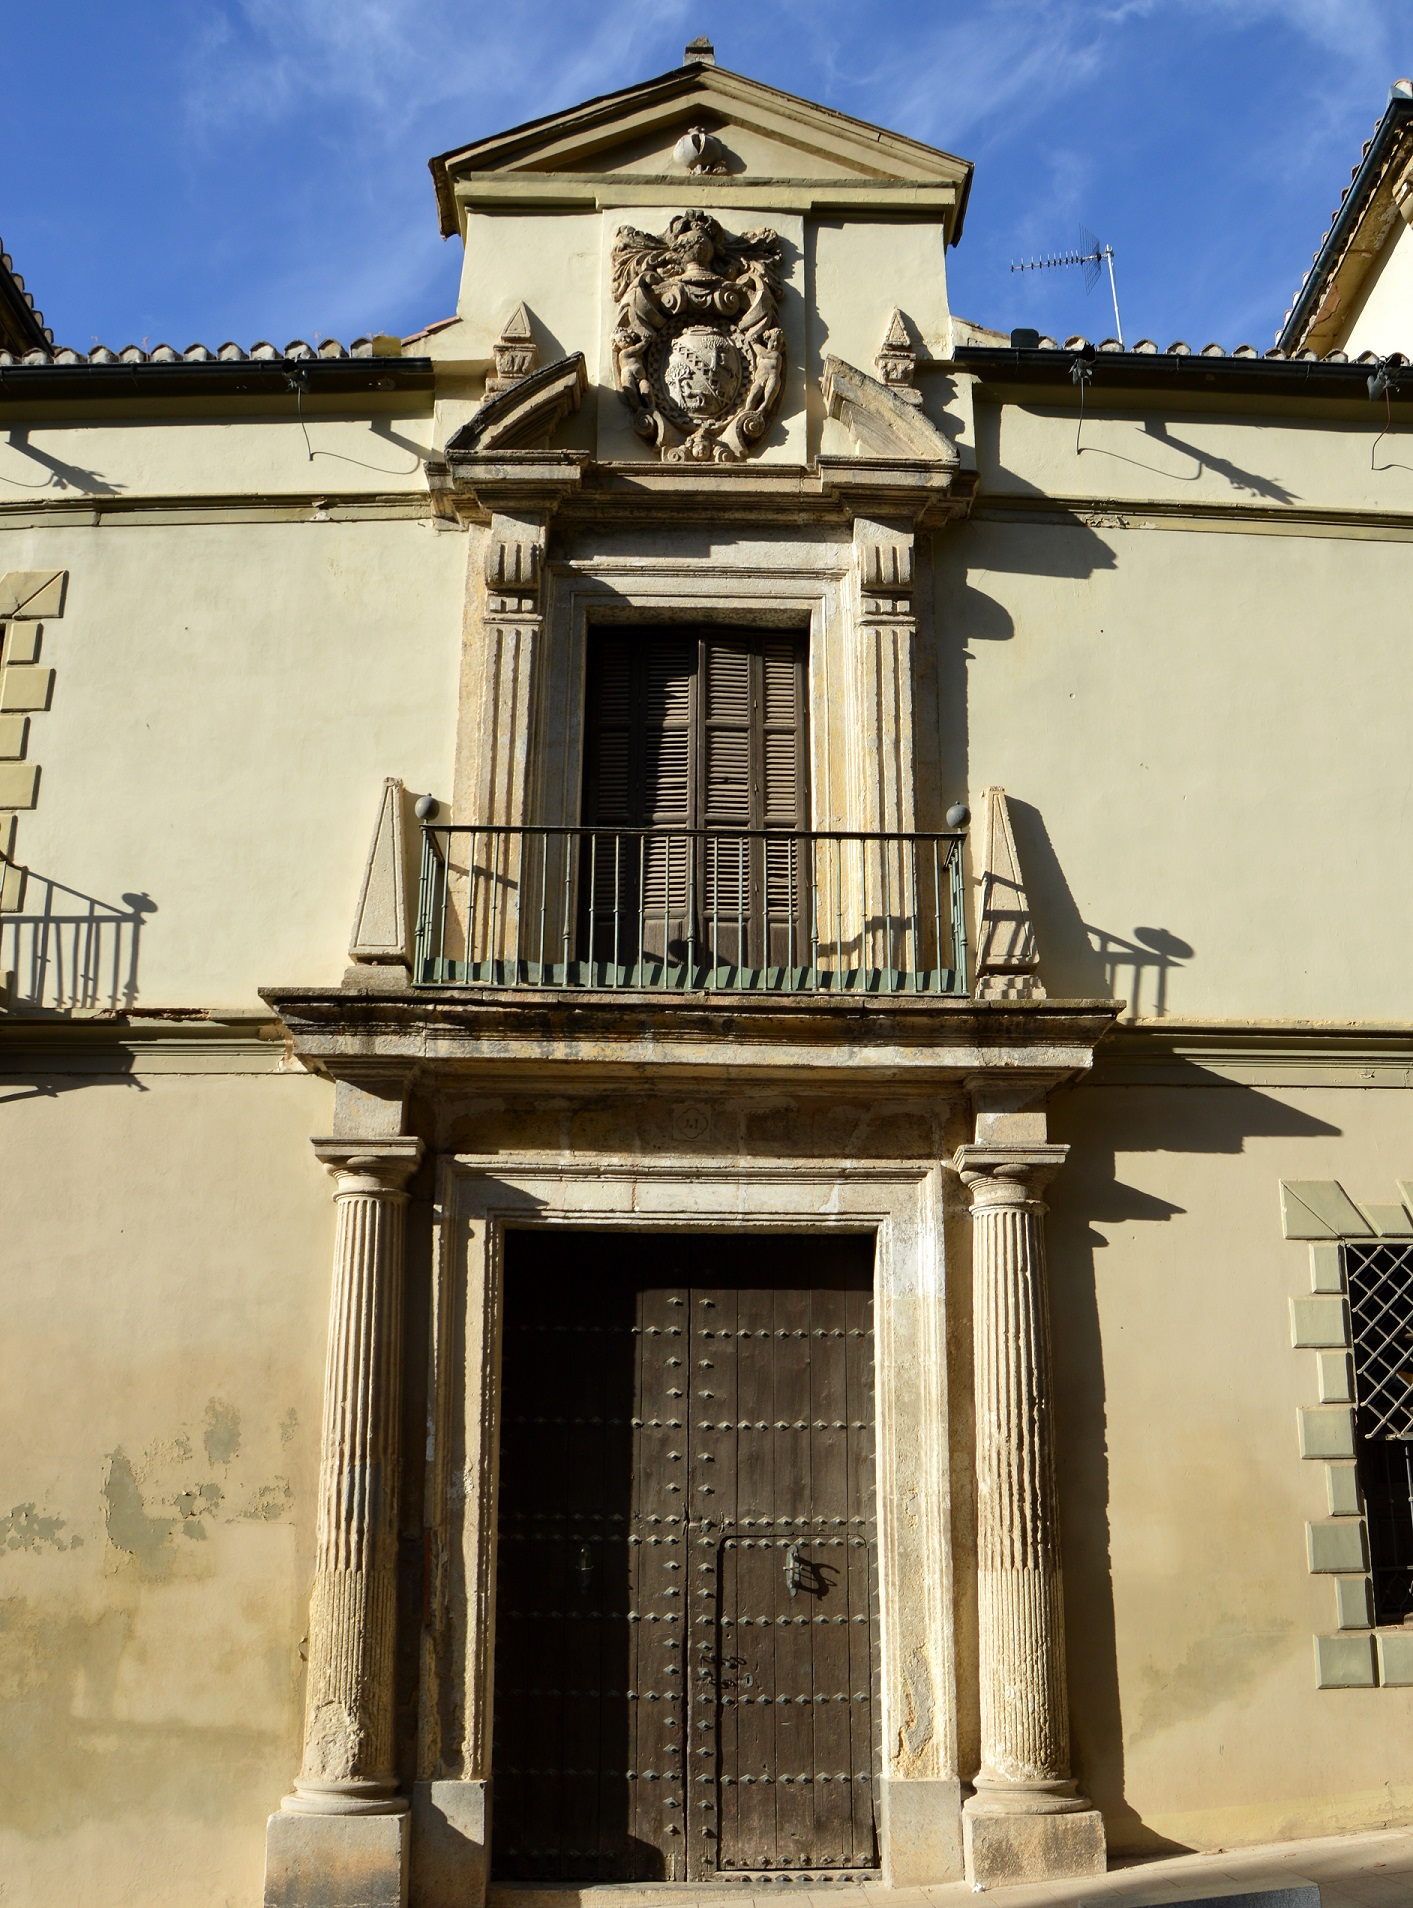fronton: (429, 59, 984, 234)
fronton-partido: (426, 341, 974, 504)
vano-adintelado: (429, 1154, 957, 1907), (542, 556, 858, 984)
